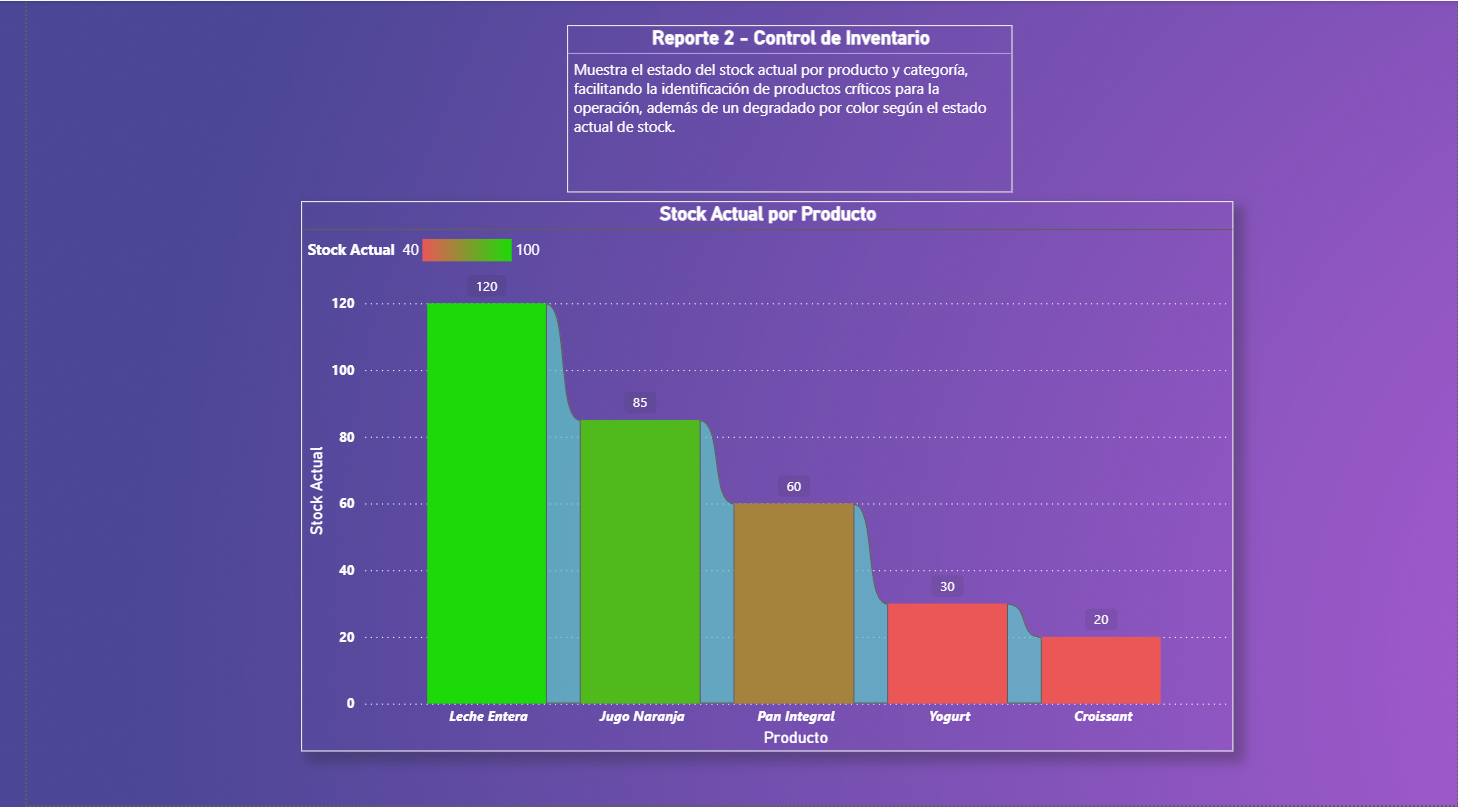

Layout of this report page (visuals, bound fields, positions):
{"tool":"powerbi","page":{"name":"Control de Inventario","canvas":[1280,720],"ordinal":2},"visuals":[{"type":"columnChart","title":"Stock Actual por Producto","fields":{"Category":["Stock.Producto"],"Y":["Sum(Stock.Stock_Actual)"]},"box":[266,189,834.6,494.3],"z":0},{"type":"textbox","title":"Reporte 2 - Control de Inventario","box":[353.7,25.1,659.1,130.7],"z":1}]}

Visuals, with their boxes in screenshot pixels (x1, y1, x2, y2), scaled from the page's 1280x720 canvas onto the 1458x807 screenshot:
"Stock Actual por Producto" columnChart: BBox(303, 212, 1254, 766)
"Reporte 2 - Control de Inventario" textbox: BBox(403, 28, 1154, 175)
